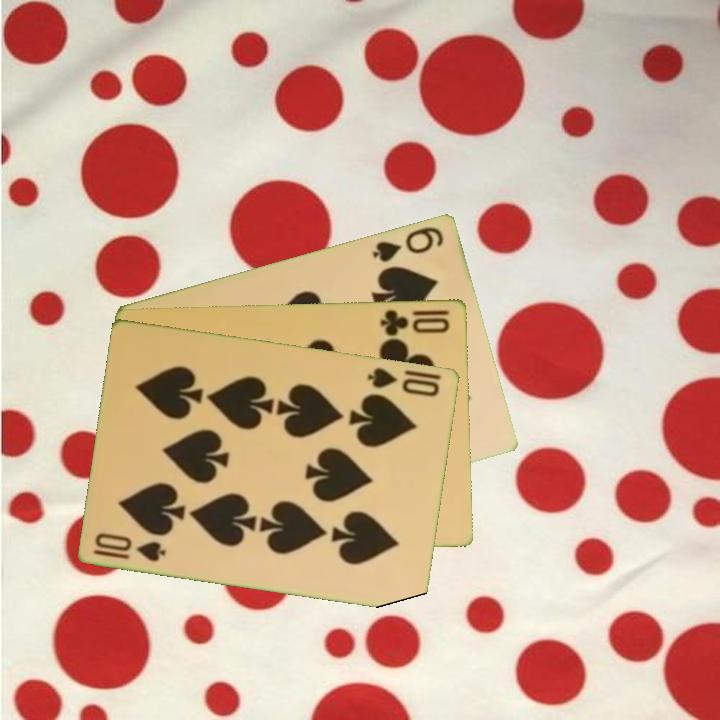10c: (377, 305, 453, 338)
10s: (364, 364, 443, 399), (90, 529, 169, 564)
6s: (369, 222, 447, 265)
